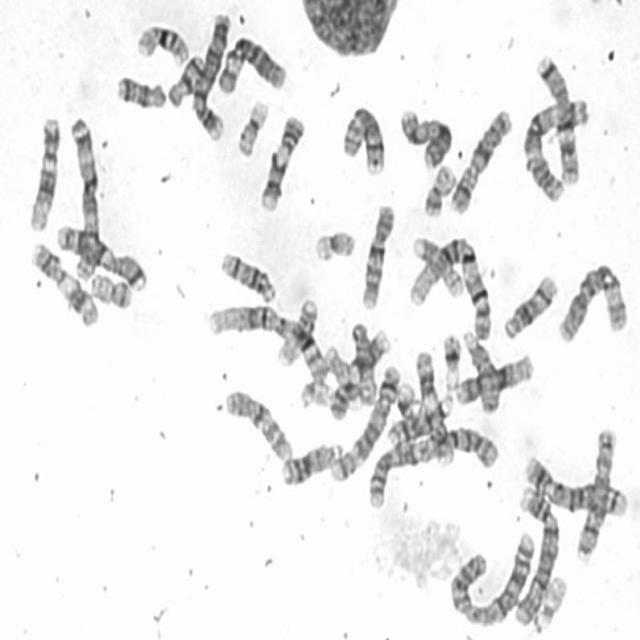A1: (204, 296, 330, 384), (407, 229, 494, 342)
A2: (363, 418, 502, 512), (445, 524, 539, 628)
A3: (520, 89, 592, 203), (67, 110, 104, 282)
B4: (509, 477, 562, 629), (190, 7, 233, 143)
B5: (327, 359, 402, 484), (521, 450, 629, 520)
C10: (221, 382, 295, 463), (357, 196, 398, 311)
C11: (26, 236, 100, 330), (411, 346, 455, 466)
C12: (452, 348, 537, 407), (25, 109, 62, 232)
C6: (554, 256, 631, 345), (214, 29, 288, 96)
C7: (530, 45, 583, 193), (53, 218, 150, 294)
C8: (571, 421, 619, 562), (338, 100, 388, 177)
C9: (325, 324, 391, 421), (257, 109, 307, 213)
D13: (384, 389, 454, 448), (278, 435, 345, 488)
D14: (499, 267, 560, 341), (216, 244, 279, 304)
D15: (460, 324, 504, 416), (348, 317, 377, 408)
E16: (272, 292, 321, 370), (133, 17, 191, 67)
E17: (408, 230, 464, 300), (322, 342, 363, 410)
E18: (164, 48, 207, 108), (114, 69, 169, 111)
F19: (233, 93, 270, 157), (311, 223, 358, 264)
F20: (420, 158, 458, 218), (87, 266, 134, 310)
G21: (438, 326, 464, 390), (394, 377, 422, 424)
G22: (530, 568, 570, 636), (297, 376, 332, 411)
X: (446, 101, 514, 215), (395, 102, 455, 171)
